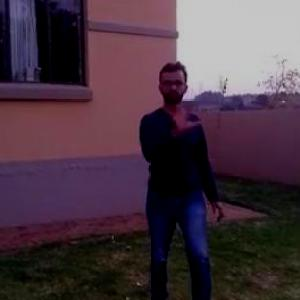follow_hand: (170, 96, 204, 138)
